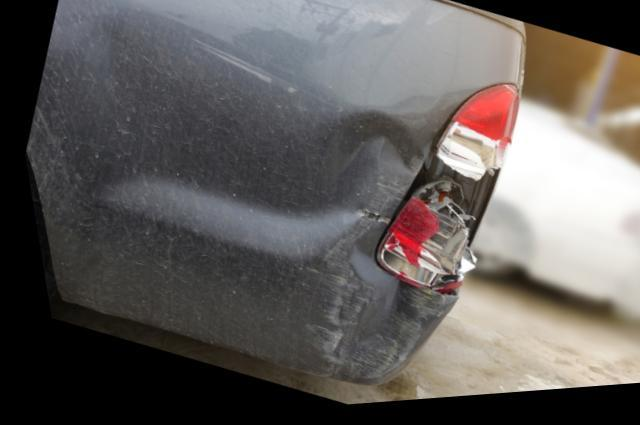dent: (80, 20, 416, 264)
lamp broken: (364, 89, 513, 300)
scratch: (290, 244, 435, 384)
